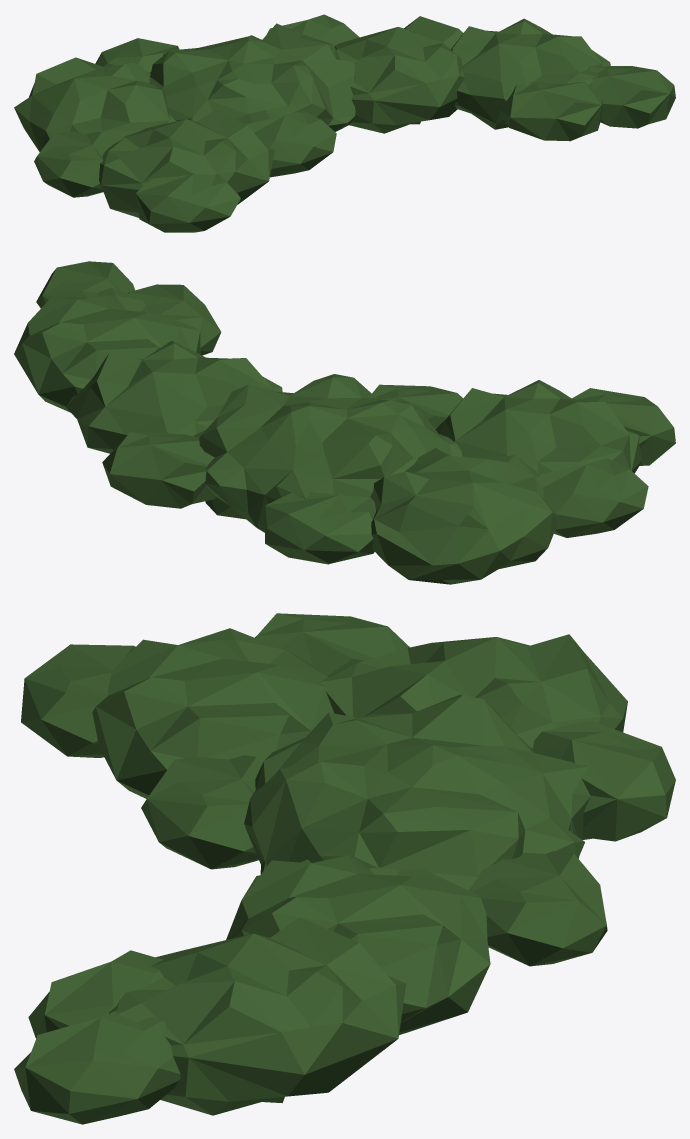
File: SM_Env_Tree_Canopy_04.glb
3 views of the same model, one above another, from view 1: azimuth 30°, elevation 25°; view 2: azimuth 150°, elevation 25°; view 3: azimuth 270°, elevation 25° (orthographic). The views are drawn at different scales.
Parts seen in each view (by area): view 1: SM_Env_Tree_Canopy_04; view 2: SM_Env_Tree_Canopy_04; view 3: SM_Env_Tree_Canopy_04.
Part boxes in pixels (x1,y1,x2,y2): SM_Env_Tree_Canopy_04: (14, 14, 675, 232); SM_Env_Tree_Canopy_04: (14, 261, 675, 584); SM_Env_Tree_Canopy_04: (14, 613, 675, 1124).
Bounding box in the file's own units: 0.2465 × 0.0454 × 0.1457.
